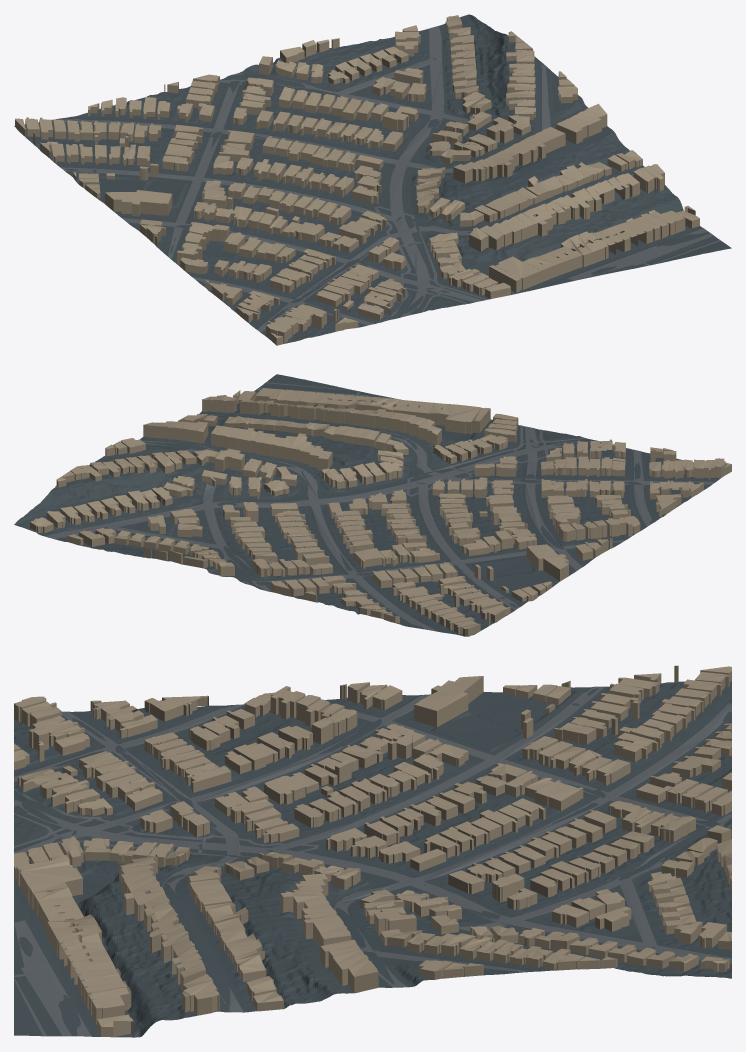
The model's file is epsg26910-1432-10869.lod0.glb.
3 renders of one model, top to bottom at view 1: azimuth 30°, elevation 25°; view 2: azimuth 150°, elevation 25°; view 3: azimuth 270°, elevation 25°, orthographic. The views are drawn at different scales.
Visible parts, largest first — view 1: epsg26910-1432-10869-lod0; view 2: epsg26910-1432-10869-lod0; view 3: epsg26910-1432-10869-lod0.
Part boxes in pixels (x1,y1,x2,y2): epsg26910-1432-10869-lod0: (14, 14, 731, 345); epsg26910-1432-10869-lod0: (14, 374, 731, 636); epsg26910-1432-10869-lod0: (14, 665, 731, 1037).
Size of the model in its own units: 384 by 46.12 by 384.
